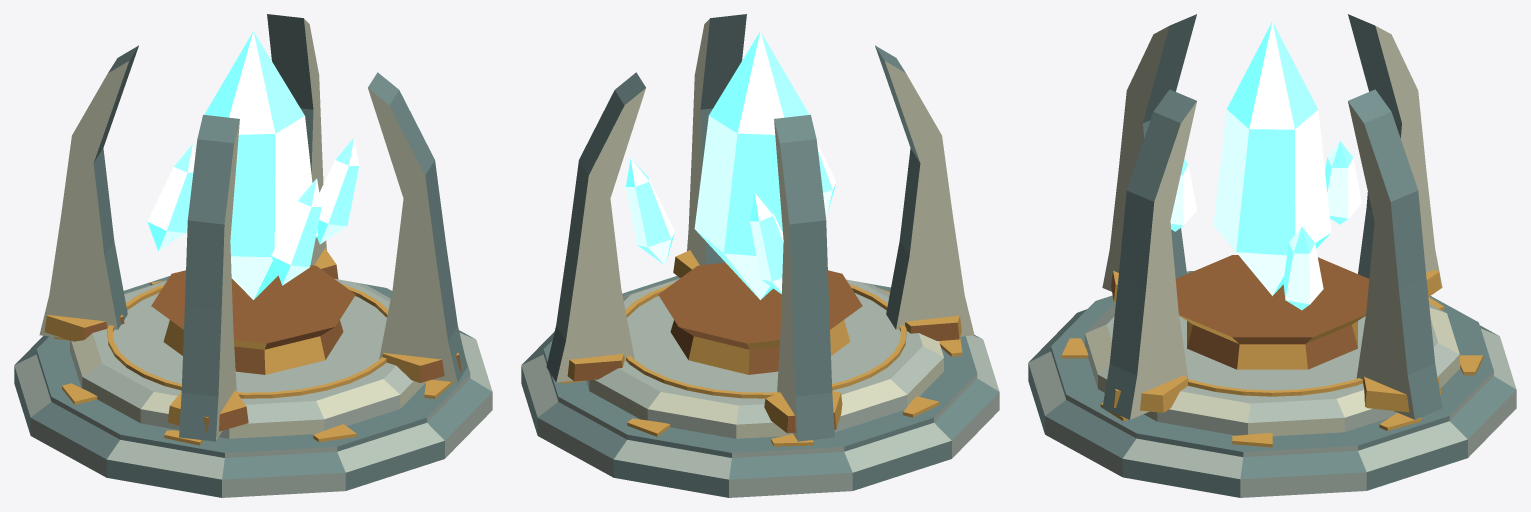
Rendered from shrine.glb.
3 renders of one model, left to right at view 1: azimuth 30°, elevation 25°; view 2: azimuth 150°, elevation 25°; view 3: azimuth 270°, elevation 25°, orthographic. The views are drawn at different scales.
Visible parts, largest first — view 1: Shrine_dais, Shrine_upper_step, Heart_main_crystal, Shrine_embracing_rib.002, Shrine_embracing_rib.003, Shrine_embracing_rib.001, Crystal_socket, Shrine_embracing_rib, Heart_orbit_shard.002, Heart_orbit_shard.001, Heart_orbit_shard, Shrine_inlay (+3 smaller); view 2: Shrine_dais, Shrine_upper_step, Shrine_embracing_rib.001, Heart_main_crystal, Shrine_embracing_rib, Shrine_embracing_rib.002, Crystal_socket, Shrine_embracing_rib.003, Heart_orbit_shard, Shrine_inlay, Heart_orbit_shard.001, Rib_gilded_foot (+3 smaller); view 3: Shrine_dais, Heart_main_crystal, Shrine_embracing_rib, Shrine_embracing_rib.003, Shrine_upper_step, Crystal_socket, Shrine_embracing_rib.001, Shrine_embracing_rib.002, Heart_orbit_shard, Heart_orbit_shard.001, Shrine_inlay, Rib_gilded_foot.003 (+2 smaller).
Part boxes in pixels (<box>): Shrine_dais: <box>14,276,492,497</box>; Shrine_upper_step: <box>70,278,426,438</box>; Heart_main_crystal: <box>204,31,318,299</box>; Shrine_embracing_rib.002: <box>179,114,239,441</box>; Shrine_embracing_rib.003: <box>368,72,467,382</box>; Shrine_embracing_rib.001: <box>39,45,138,337</box>; Crystal_socket: <box>151,265,355,374</box>; Shrine_embracing_rib: <box>267,14,326,265</box>; Heart_orbit_shard.002: <box>271,178,321,285</box>; Heart_orbit_shard.001: <box>147,144,194,251</box>; Heart_orbit_shard: <box>317,137,359,244</box>; Shrine_inlay: <box>107,283,388,398</box>; Shrine_dais: <box>521,276,999,497</box>; Shrine_upper_step: <box>586,278,943,438</box>; Shrine_embracing_rib.001: <box>774,114,834,441</box>; Heart_main_crystal: <box>694,31,812,299</box>; Shrine_embracing_rib: <box>546,72,645,382</box>; Shrine_embracing_rib.002: <box>875,45,974,336</box>; Crystal_socket: <box>658,262,862,374</box>; Shrine_embracing_rib.003: <box>687,14,746,265</box>; Heart_orbit_shard: <box>626,158,674,265</box>; Shrine_inlay: <box>625,283,906,398</box>; Heart_orbit_shard.001: <box>750,192,783,293</box>; Rib_gilded_foot: <box>567,353,624,381</box>; Shrine_dais: <box>1028,271,1516,497</box>; Heart_main_crystal: <box>1213,21,1331,295</box>; Shrine_embracing_rib: <box>1348,89,1442,419</box>; Shrine_embracing_rib.003: <box>1102,89,1196,419</box>; Shrine_upper_step: <box>1085,302,1459,436</box>; Crystal_socket: <box>1175,255,1369,369</box>; Shrine_embracing_rib.001: <box>1348,14,1442,288</box>; Shrine_embracing_rib.002: <box>1102,14,1196,291</box>; Heart_orbit_shard: <box>1283,226,1323,310</box>; Heart_orbit_shard.001: <box>1325,141,1361,224</box>; Shrine_inlay: <box>1188,378,1362,396</box>; Rib_gilded_foot.003: <box>1113,375,1188,412</box>.
Bounding box in the file's own units: 4.26 × 3.6 × 4.26.
